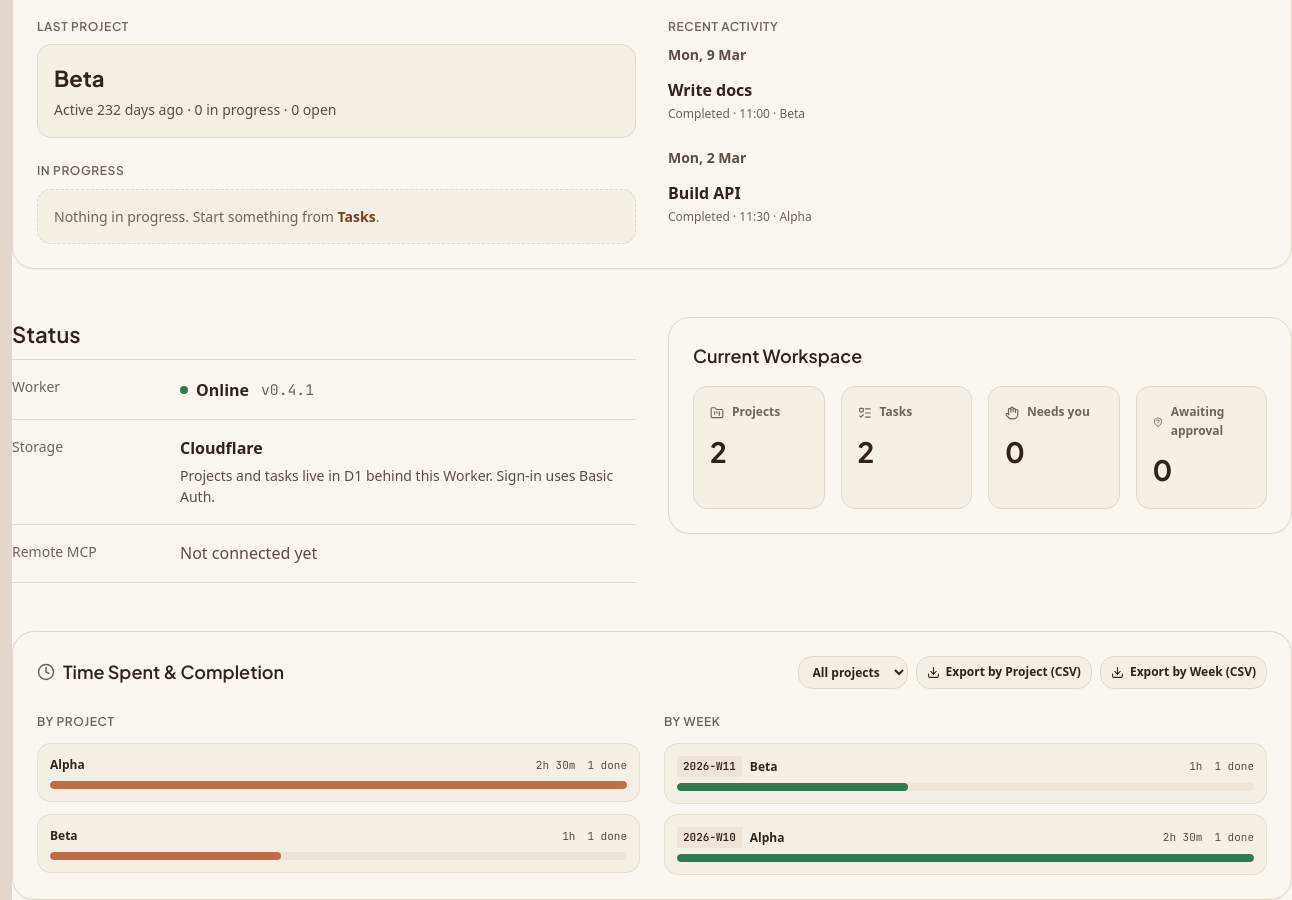
Test: Overview time analytics and CSV export › renders by-project and by-week time charts and filters by project
The image size is (1292, 900).
(page scrolled)
Expected: the 1st text "Alpha" is shown, [50,756,85,775]
Expected: the 1st text "2h 30m" is shown, [536,757,575,774]
// Filter to Alpha only
Select "Alpha" in the dropdown named "Filter analytics by project". click: [853, 672]
box: [798,656,908,689]
(page scrolled)
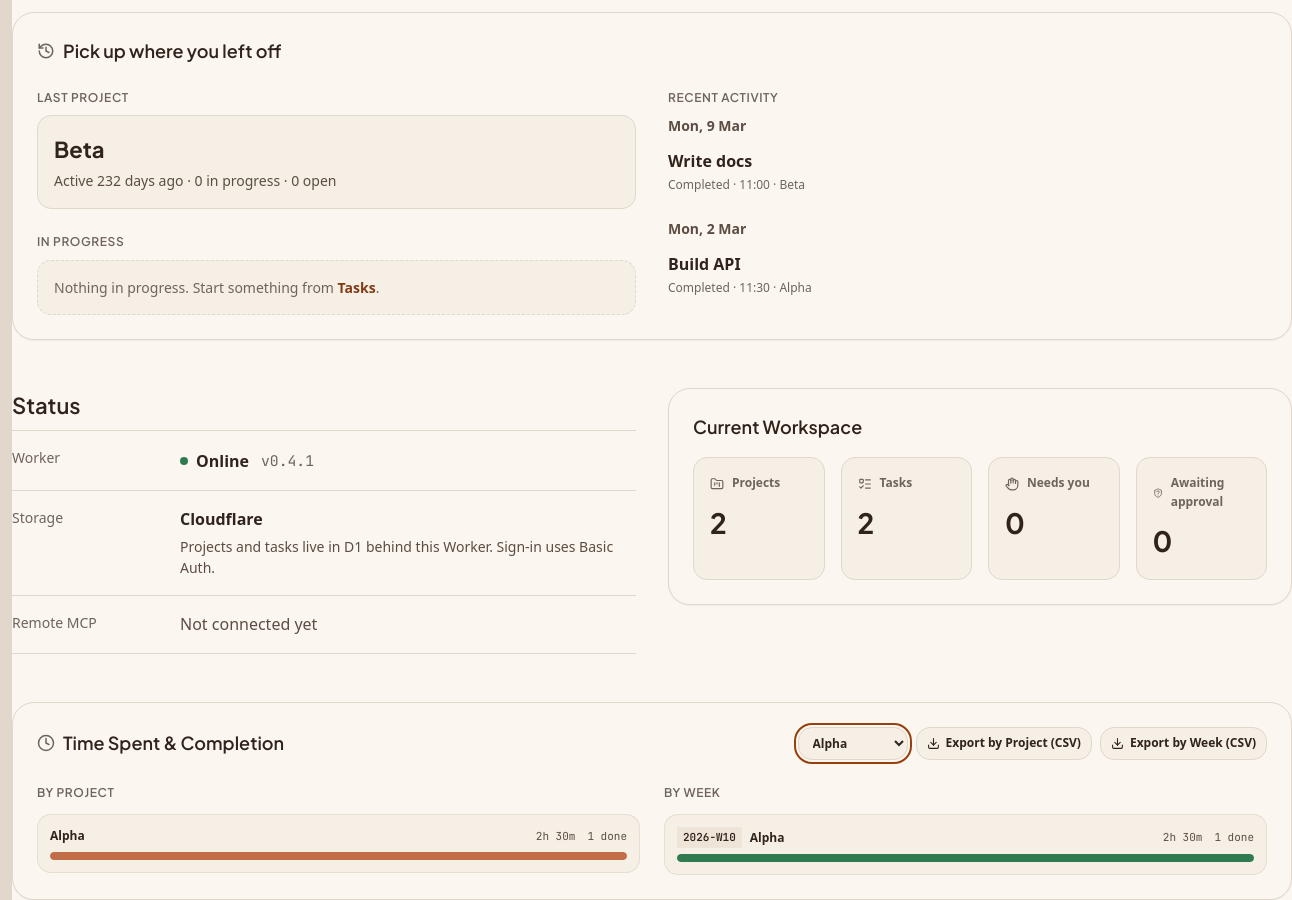
Expected: the 1st text "Alpha" is shown, [50,827,85,846]
Expected: the text "2026-W11" is gone
